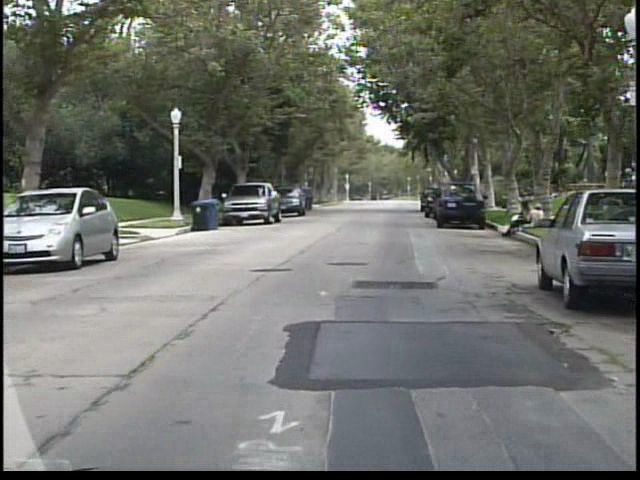person: (501, 197, 535, 240), (521, 202, 546, 236)
